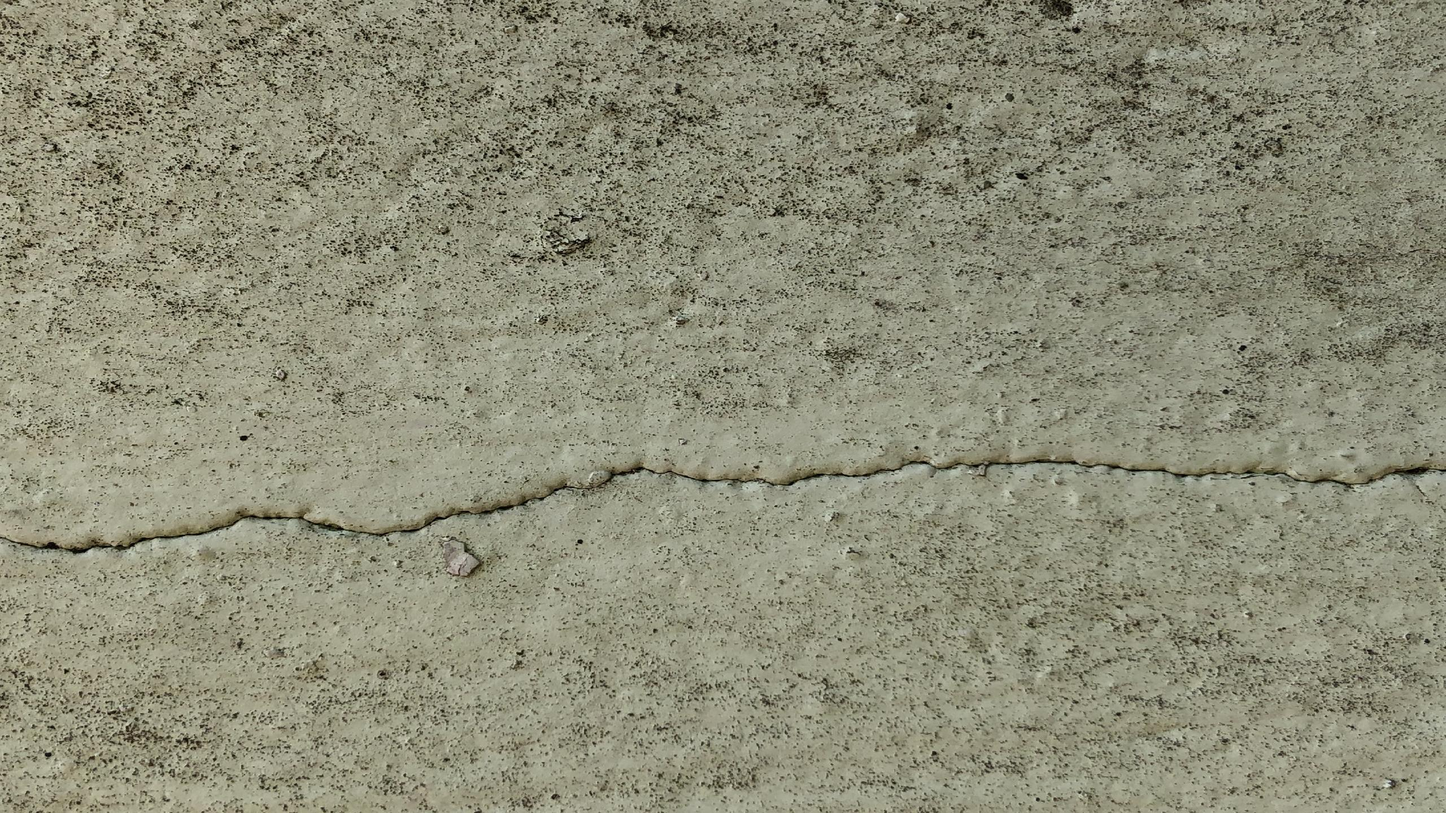crack: (0, 460, 1445, 554)
